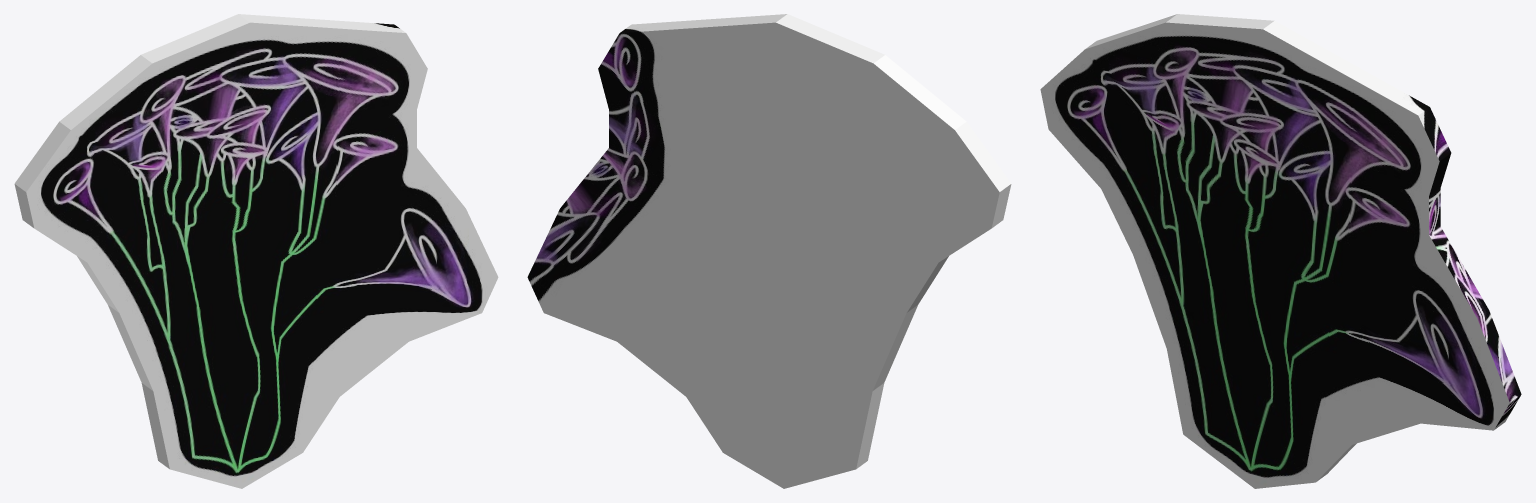
File: bush_04_05.obj
3 renders of one model, left to right at view 1: azimuth 30°, elevation 25°; view 2: azimuth 150°, elevation 25°; view 3: azimuth 330°, elevation 25°, orthographic.
Visible parts, largest first — view 1: MeshBody1; view 2: MeshBody1; view 3: MeshBody1.
Part boxes in pixels (<box>): MeshBody1: <box>14,14,498,488</box>; MeshBody1: <box>527,14,1011,488</box>; MeshBody1: <box>1040,14,1521,488</box>.
Size of the model in its own units: 1.16 by 1.09 by 0.05.
